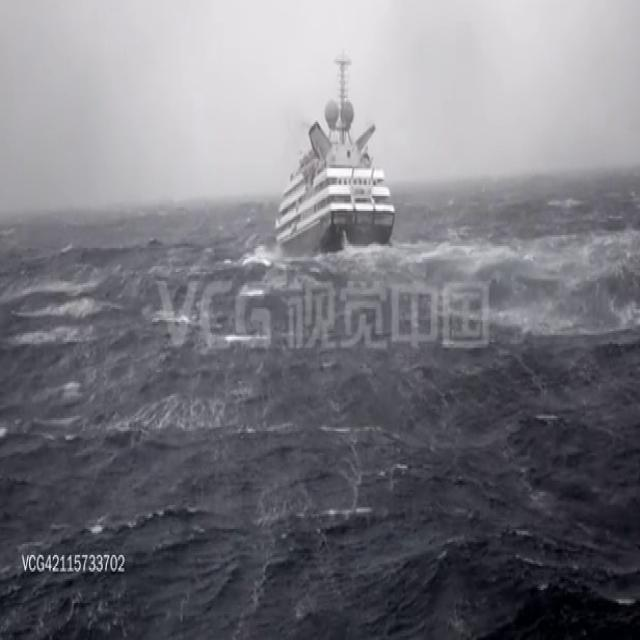passenger ship: (269, 65, 387, 252)
